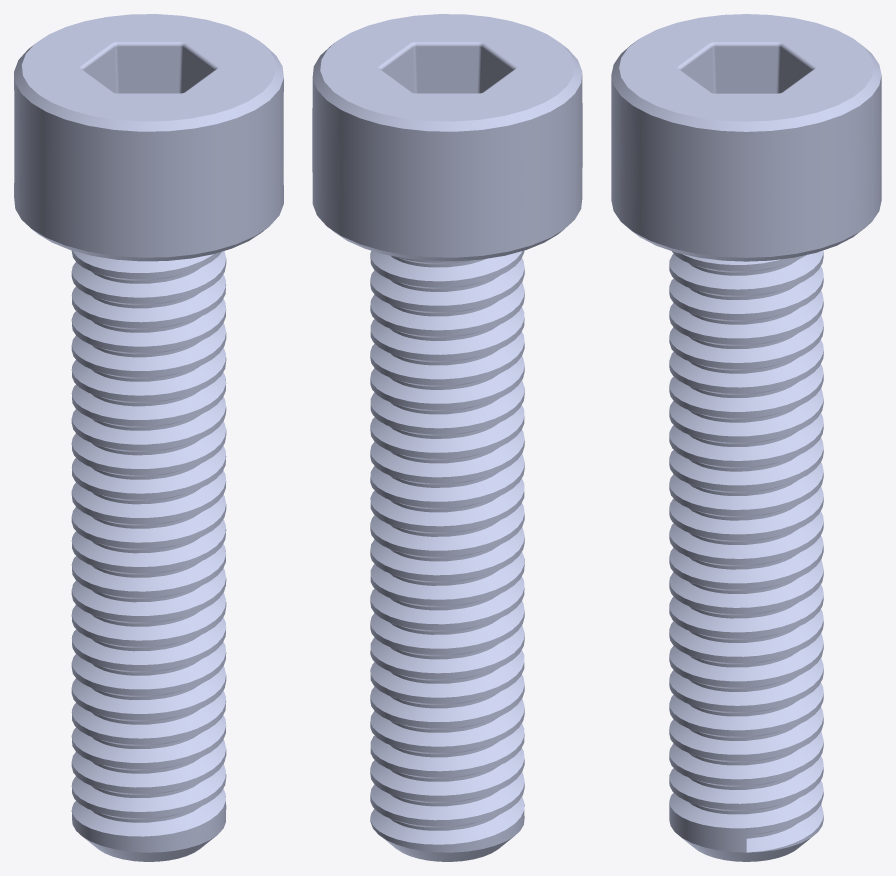
File: M4 screw.fbx
The picture shows the model from 3 angles, left to right: view 1: azimuth 30°, elevation 25°; view 2: azimuth 150°, elevation 25°; view 3: azimuth 270°, elevation 25°; orthographic projection.
Parts seen in each view (by area): view 1: Body1; view 2: Body1; view 3: Body1.
Part boxes in pixels (x1,y1,x2,y2): Body1: (14, 14, 283, 861); Body1: (312, 14, 582, 861); Body1: (611, 14, 881, 861).
Size of the model in its own units: 7 by 22 by 7.
